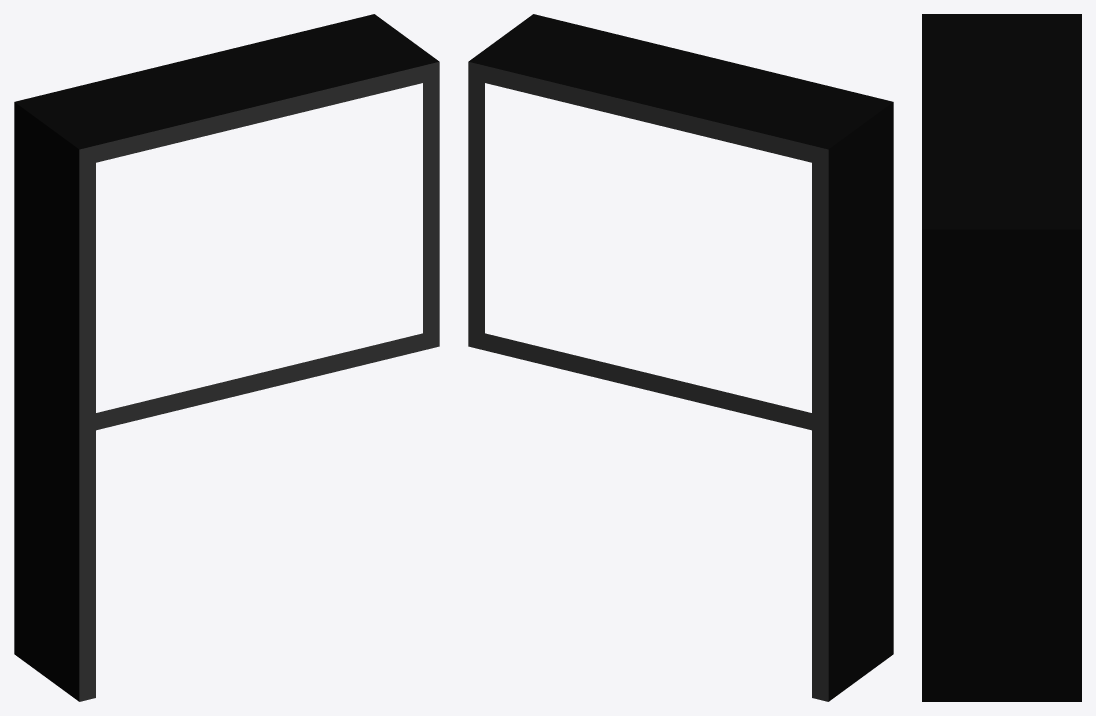
3 views of the same model, side by side, from view 1: azimuth 30°, elevation 25°; view 2: azimuth 150°, elevation 25°; view 3: azimuth 270°, elevation 25° (orthographic). The views are drawn at different scales.
Visible parts, largest first — view 1: p_AlphaProta_Black; view 2: p_AlphaProta_Black; view 3: p_AlphaProta_Black.
Part boxes in pixels (left/top/right/bottom): p_AlphaProta_Black: left=14, top=14, right=439, bottom=701; p_AlphaProta_Black: left=468, top=14, right=893, bottom=701; p_AlphaProta_Black: left=922, top=14, right=1081, bottom=701.
Size of what is drawn, in the model's own units: 0.1436 by 0.2105 by 0.045.
Materials: 2 (2 with a texture image).
